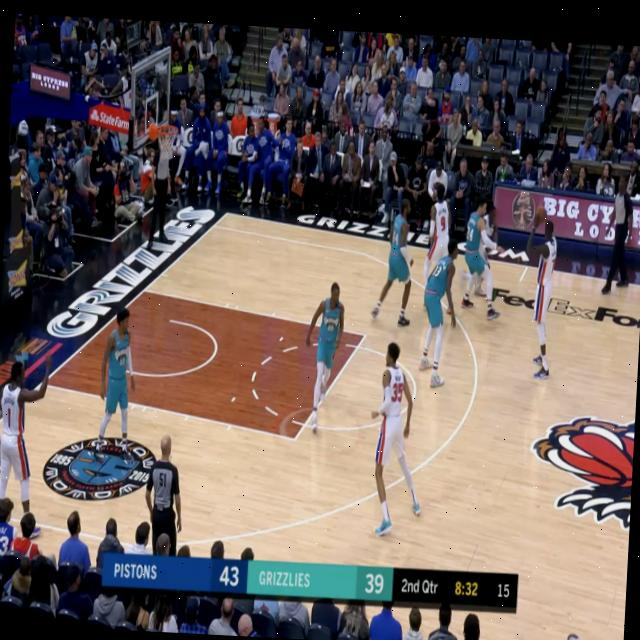no foul: (458, 196, 514, 320)
